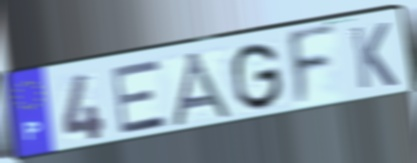4: (60, 69, 108, 143)
A: (168, 49, 238, 130)
E: (109, 57, 171, 137)
F: (285, 21, 339, 112)
G: (230, 40, 285, 113)
K: (348, 20, 400, 92)
